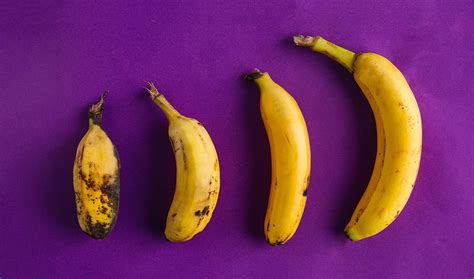banana: (312, 40, 425, 244), (250, 71, 313, 249), (158, 109, 223, 244)
